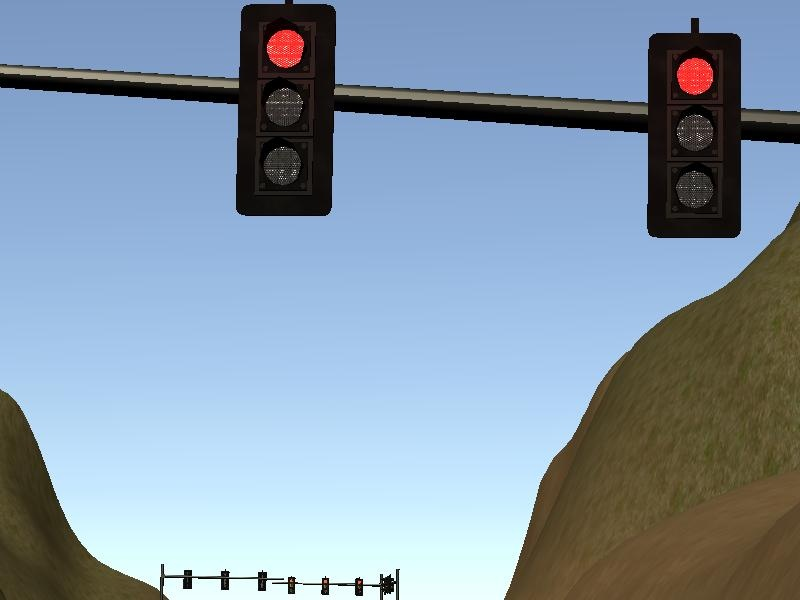red: (635, 22, 754, 248), (229, 2, 344, 224)
